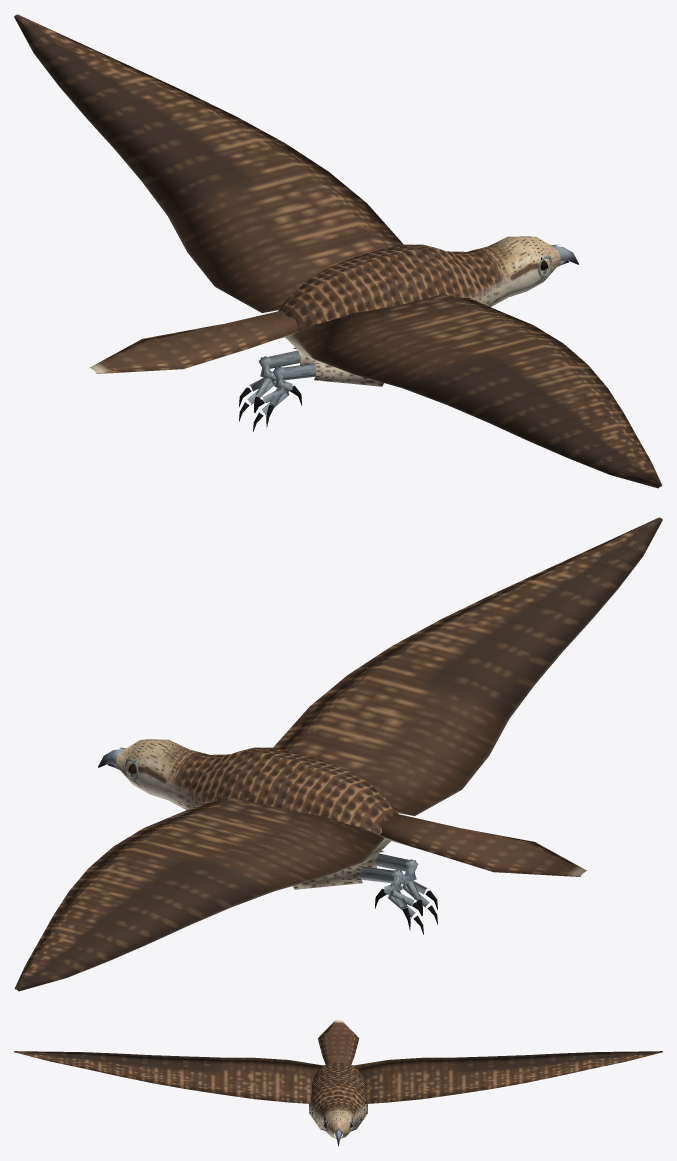
Rendered from saker_flight_lod1.glb.
3 views of the same model, one above another, from view 1: azimuth 30°, elevation 25°; view 2: azimuth 150°, elevation 25°; view 3: azimuth 270°, elevation 25° (orthographic). The views are drawn at different scales.
Visible parts, largest first — view 1: saker_body; view 2: saker_body; view 3: saker_body.
Boxes of the visible parts, x1=… form: saker_body: x1=14, y1=14, x2=662, y2=488; saker_body: x1=14, y1=517, x2=662, y2=991; saker_body: x1=14, y1=1020, x2=662, y2=1145.
Bounding box in the file's own units: 0.5193 × 0.1568 × 1.19.
1 material, 1 textured.
